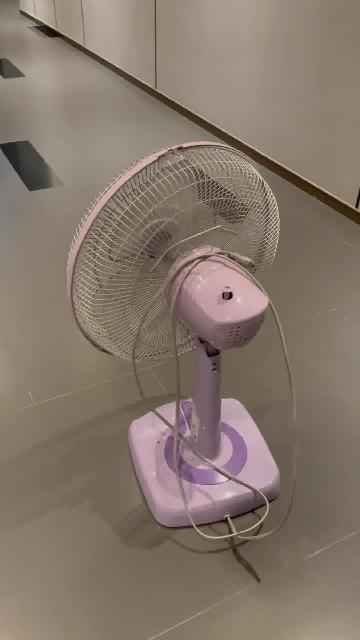Fan: (67, 141, 281, 530)
